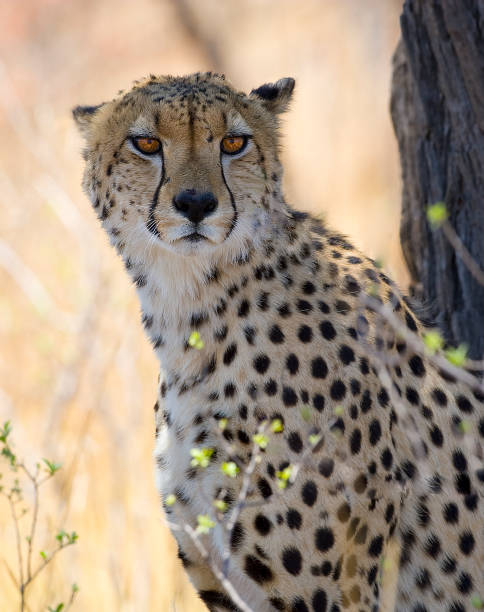cheetah: (56, 59, 325, 296)
